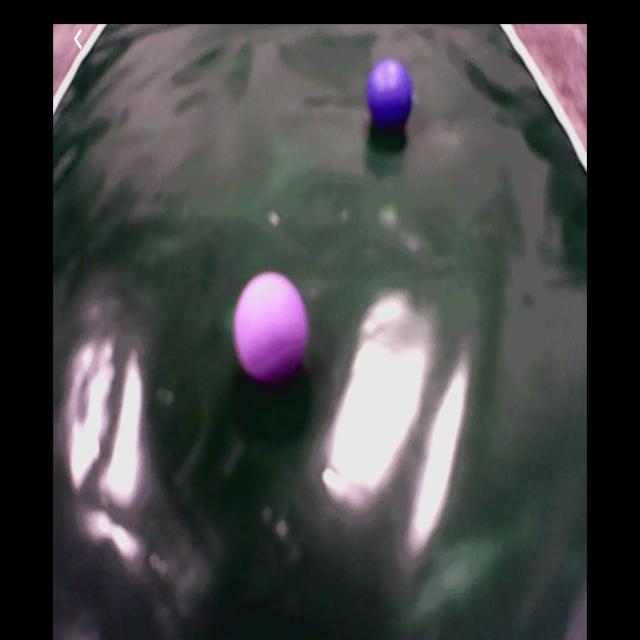ball: (236, 274, 309, 386), (369, 62, 412, 132)
